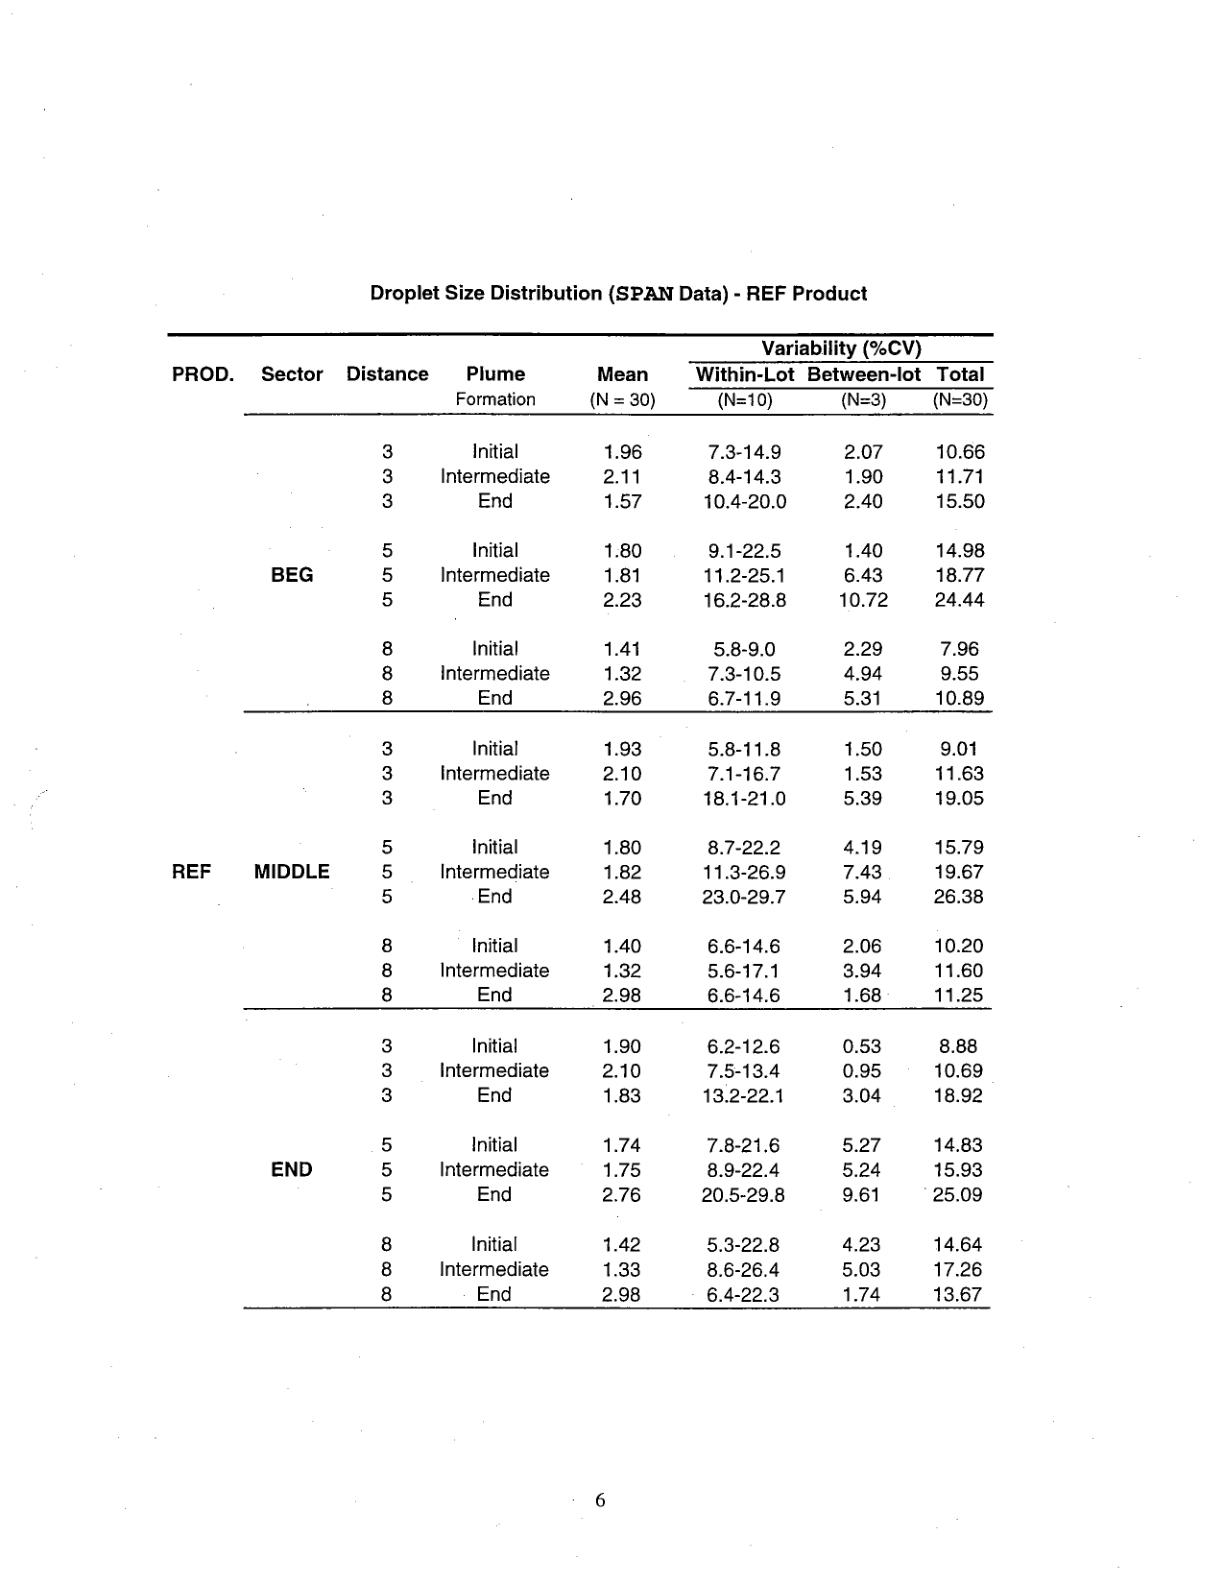partial_lined_merged_cells: (163, 328, 1002, 1314)
